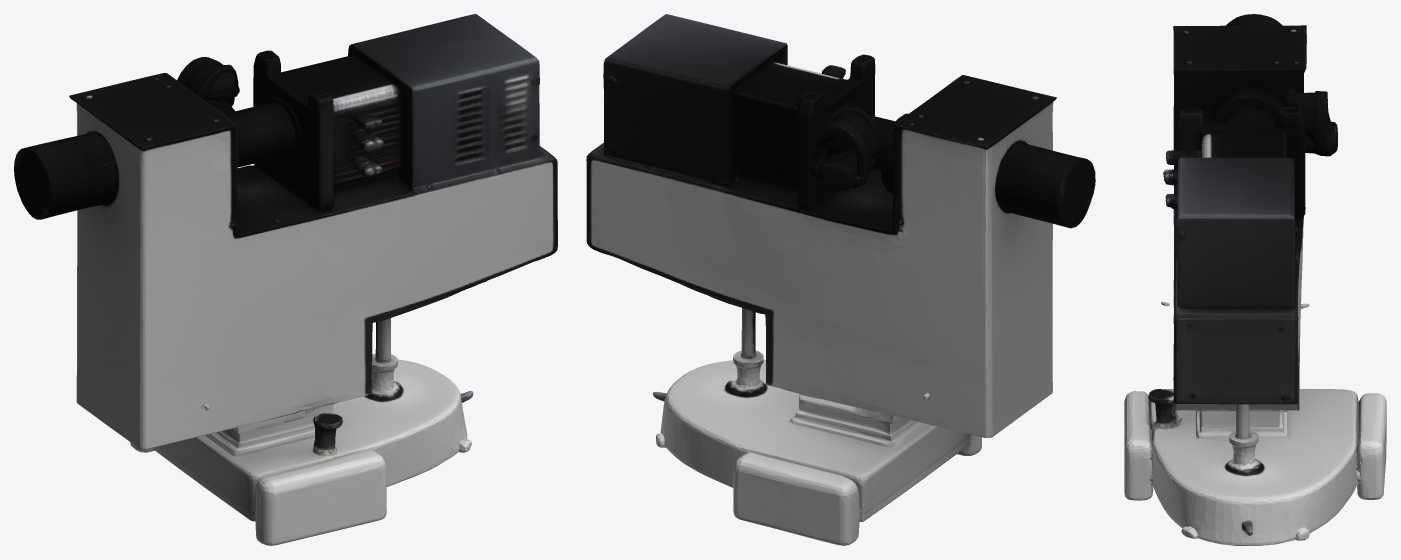
The picture shows the model from 3 angles, left to right: view 1: azimuth 30°, elevation 25°; view 2: azimuth 150°, elevation 25°; view 3: azimuth 270°, elevation 25°; orthographic projection. The views are drawn at different scales.
Parts seen in each view (by area): view 1: world; view 2: world; view 3: world.
Boxes of the visible parts, left/top/right/bottom form: world: left=14, top=14, right=557, bottom=545; world: left=586, top=14, right=1095, bottom=545; world: left=1124, top=14, right=1386, bottom=545.
Size of the model in its own units: 0.9998 by 0.8051 by 0.5074.
Materials: 1 (1 with a texture image).
